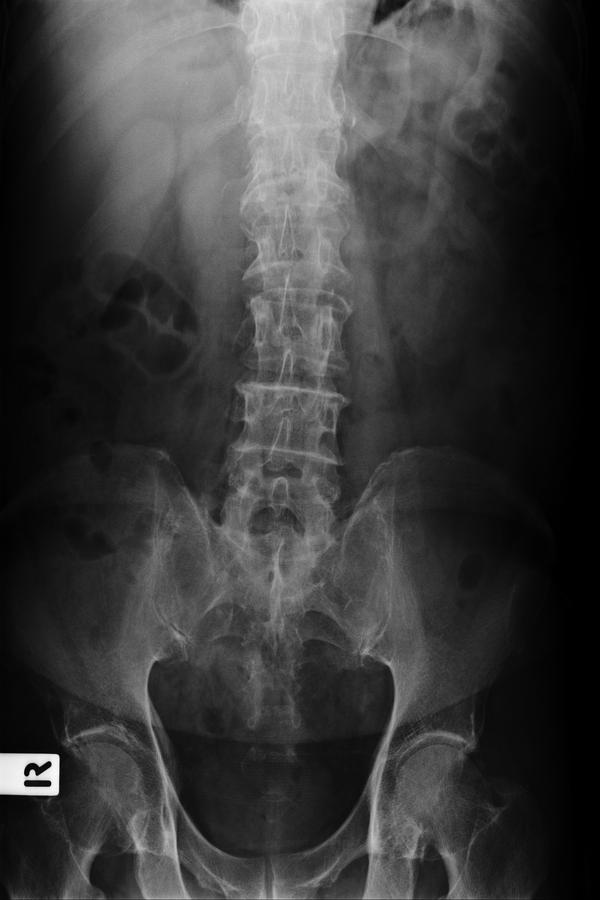lumbar scoliosis: (214, 164, 348, 598)
